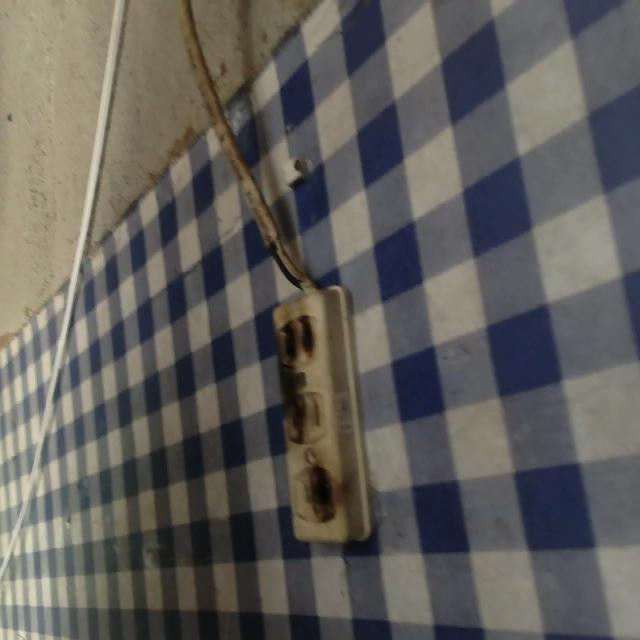-: (275, 310, 318, 366), (306, 463, 336, 521), (279, 392, 309, 443)
